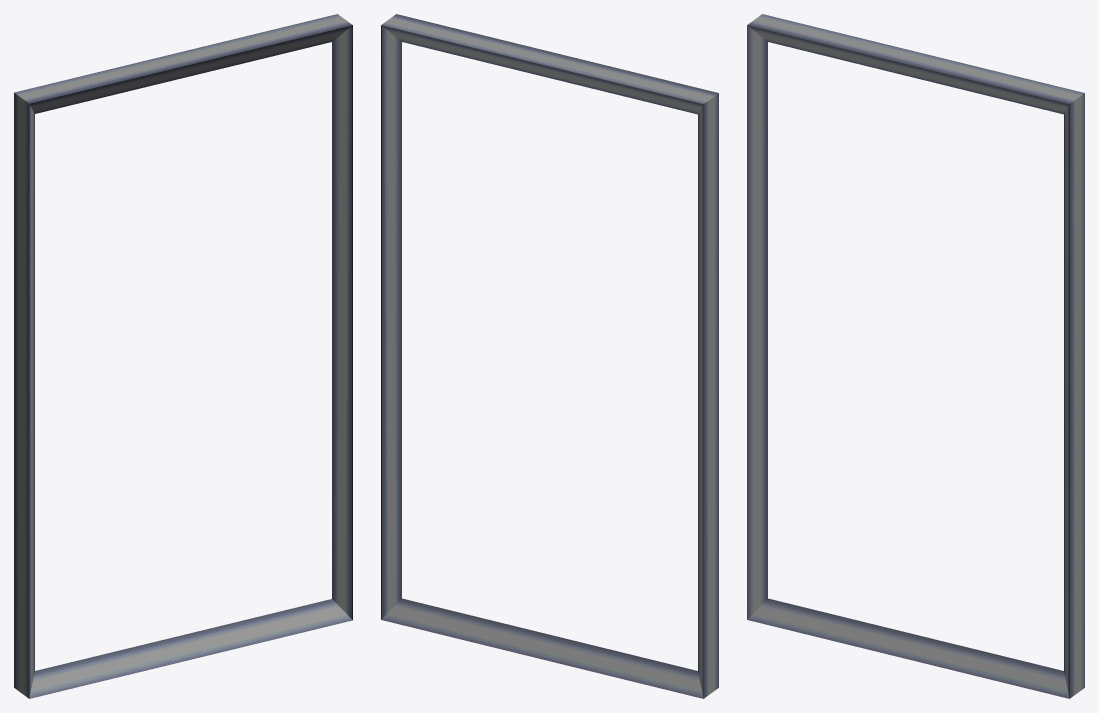
The model's file is primary_117.glb.
The picture shows the model from 3 angles, left to right: view 1: azimuth 30°, elevation 25°; view 2: azimuth 150°, elevation 25°; view 3: azimuth 330°, elevation 25°; orthographic projection.
Visible parts, largest first — view 1: Object; view 2: Object; view 3: Object.
Part boxes in pixels (bbox=[...]): Object: bbox=[14, 14, 352, 698]; Object: bbox=[381, 14, 718, 698]; Object: bbox=[747, 14, 1084, 698].
Size of the model in its own units: 1.21 by 2.13 by 0.1019.
1 material, 1 textured.
